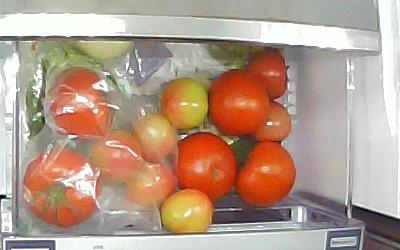tomato: (172, 131, 236, 200), (209, 70, 270, 136), (237, 142, 297, 208), (161, 189, 214, 235), (160, 79, 207, 128), (245, 48, 288, 101), (252, 100, 292, 143)
tomato_vinyl: (22, 146, 105, 228), (47, 66, 113, 136), (89, 128, 142, 180), (128, 162, 178, 207), (133, 114, 177, 163)
